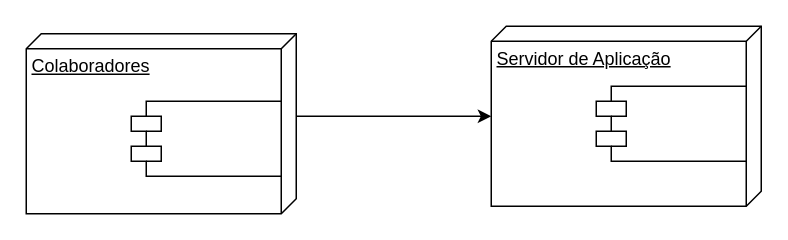
The diagram is 788 pixels wide and 240 high, and some of its shapes have lost their labels. The shapes that lost their labels are listed below. From the top down, each one's box as (x1, y1, x2, y2) in pixels, then its label:
(130, 100, 281, 176): Interface (UI)
(595, 85, 746, 161): Figma
